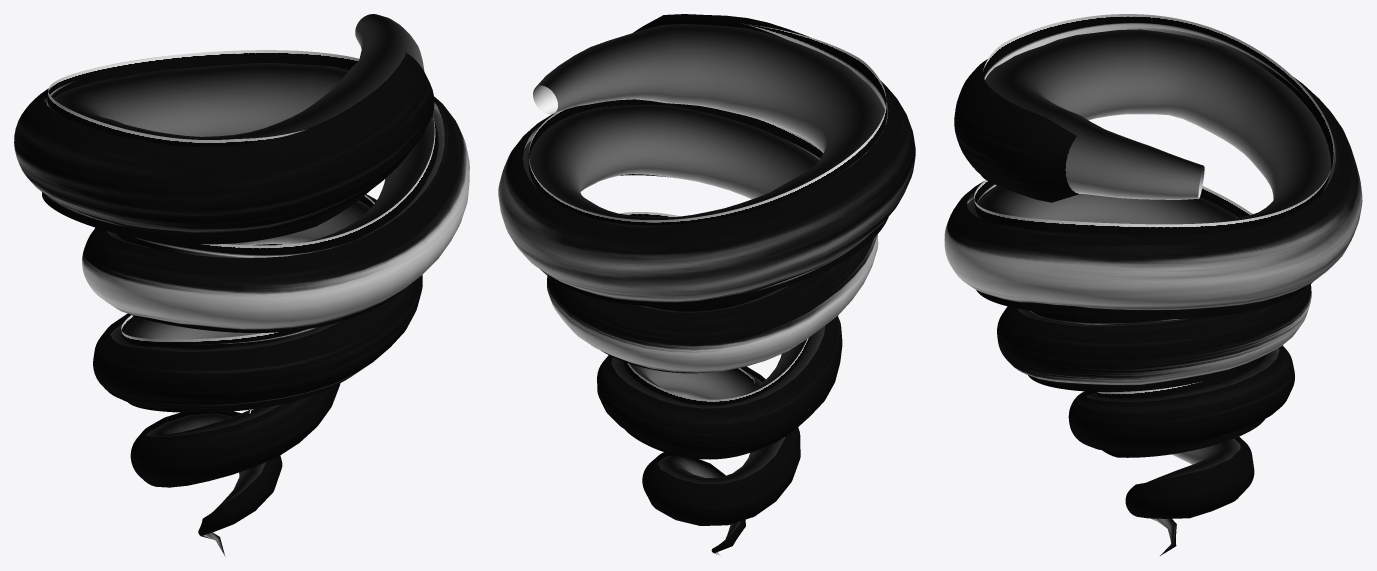
File: Vortex.fbx
3 renders of one model, left to right at view 1: azimuth 30°, elevation 25°; view 2: azimuth 150°, elevation 25°; view 3: azimuth 270°, elevation 25°, orthographic. The views are drawn at different scales.
Parts seen in each view (by area): view 1: 0002_SM_e_Skl_Wa_6Nej_Vortex003, 0000_SM_e_Skl_Wa_6Nej_Vortex003, 0001_SM_e_Skl_Wa_6Nej_Vortex003; view 2: 0002_SM_e_Skl_Wa_6Nej_Vortex003, 0000_SM_e_Skl_Wa_6Nej_Vortex003, 0001_SM_e_Skl_Wa_6Nej_Vortex003; view 3: 0002_SM_e_Skl_Wa_6Nej_Vortex003, 0000_SM_e_Skl_Wa_6Nej_Vortex003, 0001_SM_e_Skl_Wa_6Nej_Vortex003.
Part boxes in pixels (x1=…): 0002_SM_e_Skl_Wa_6Nej_Vortex003: x1=14, y1=52, x2=469, y2=556; 0000_SM_e_Skl_Wa_6Nej_Vortex003: x1=46, y1=14, x2=444, y2=555; 0001_SM_e_Skl_Wa_6Nej_Vortex003: x1=42, y1=50, x2=438, y2=413; 0002_SM_e_Skl_Wa_6Nej_Vortex003: x1=498, y1=14, x2=915, y2=554; 0000_SM_e_Skl_Wa_6Nej_Vortex003: x1=523, y1=24, x2=888, y2=556; 0001_SM_e_Skl_Wa_6Nej_Vortex003: x1=528, y1=23, x2=888, y2=459; 0002_SM_e_Skl_Wa_6Nej_Vortex003: x1=944, y1=57, x2=1362, y2=555; 0000_SM_e_Skl_Wa_6Nej_Vortex003: x1=967, y1=29, x2=1335, y2=555; 0001_SM_e_Skl_Wa_6Nej_Vortex003: x1=974, y1=14, x2=1334, y2=457.
Size of the model in its own units: 95.53 by 118 by 90.01.
